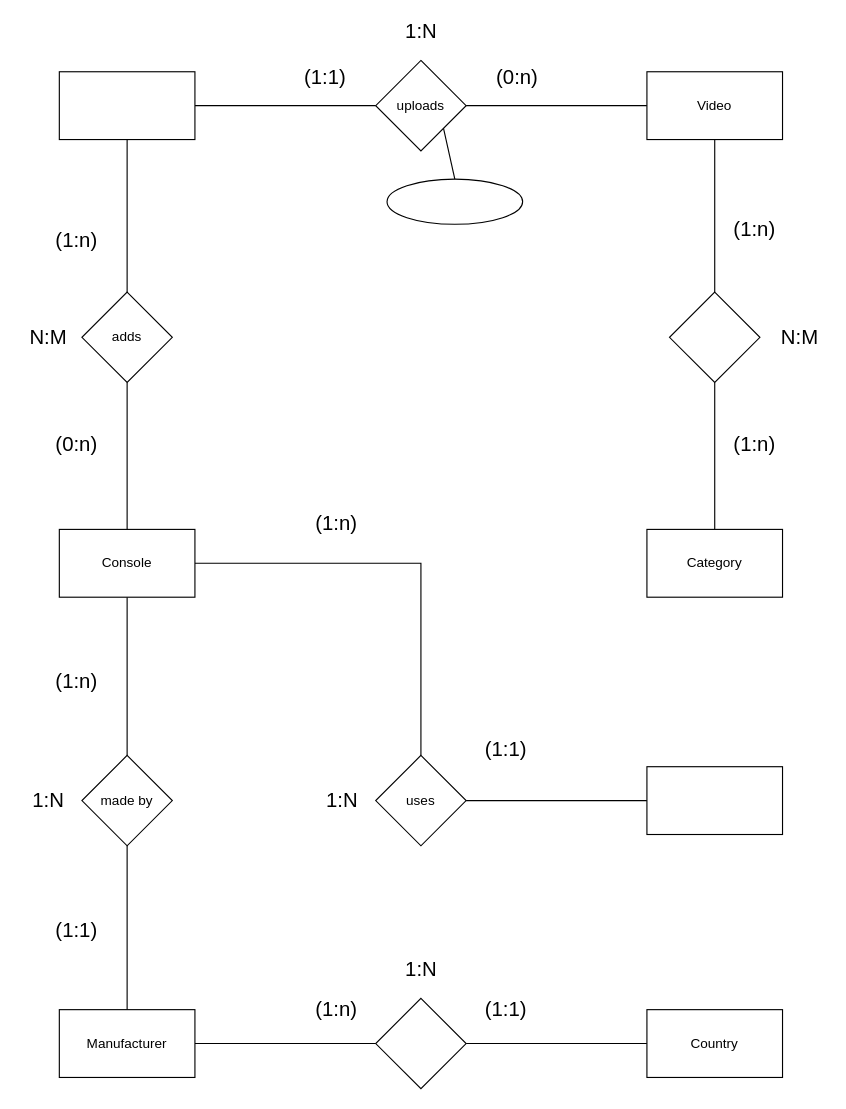
The diagram is 846 pixels wide and 1109 high, and some of its shapes have lost their labels. The centre of each missing label's shape, as x and y in pixels:
"Browser" belongs at pixel 714 800.
"from" belongs at pixel 420 1043.
"has" belongs at pixel 714 337.
"upload_date" belongs at pixel 454 201.
"User" belongs at pixel 126 105.
